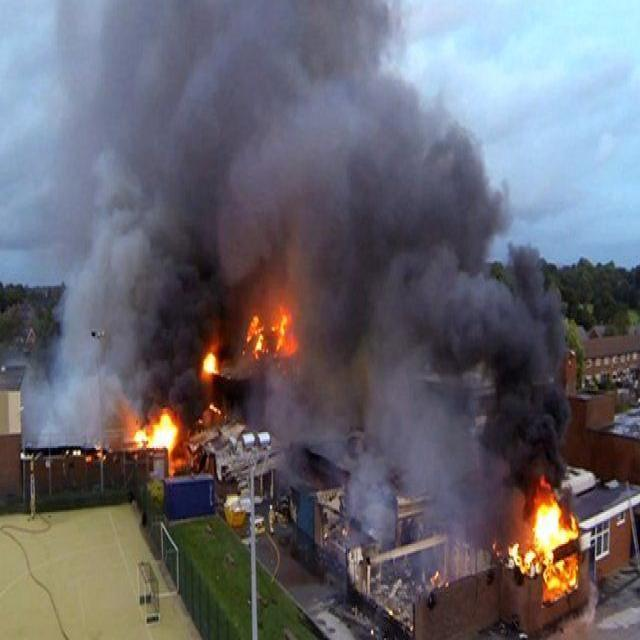Fire: (120, 292, 314, 474), (498, 477, 590, 607)
Smoke: (41, 0, 587, 581)
